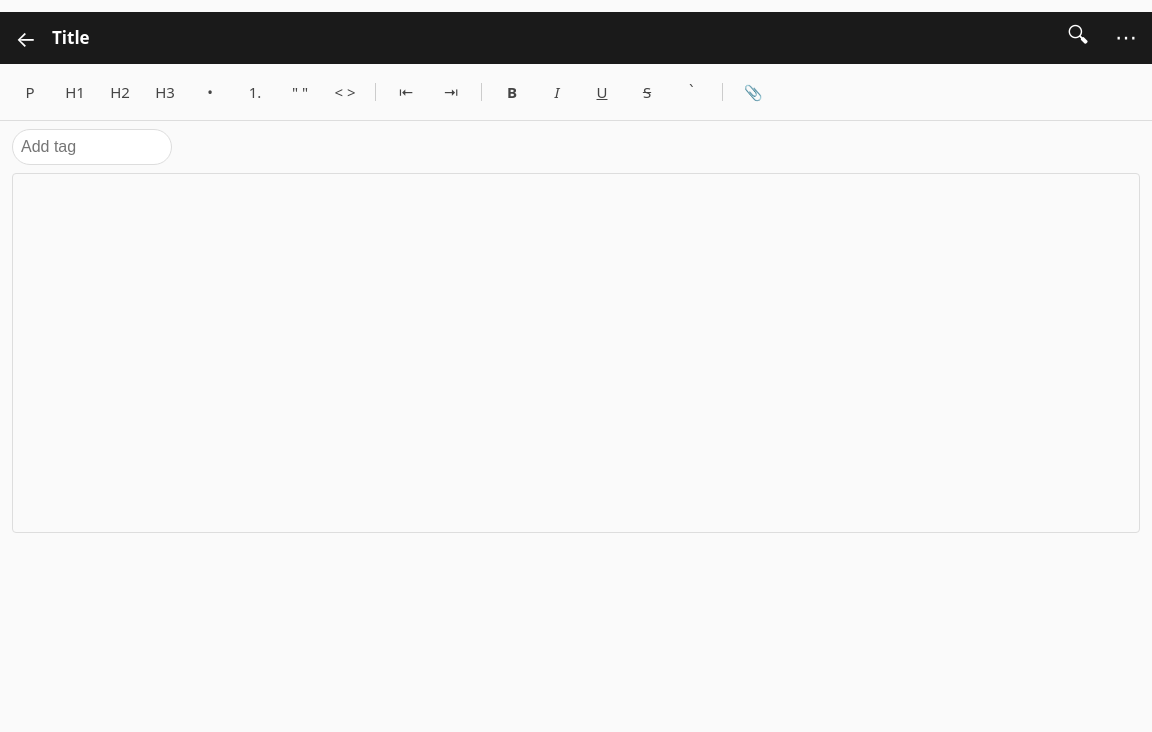
it: NoteEditor on mobile › omits Share from the menu without share_note permission
Click the button named "Menu".
click(1126, 38)  # box [1104, 16, 1148, 60]
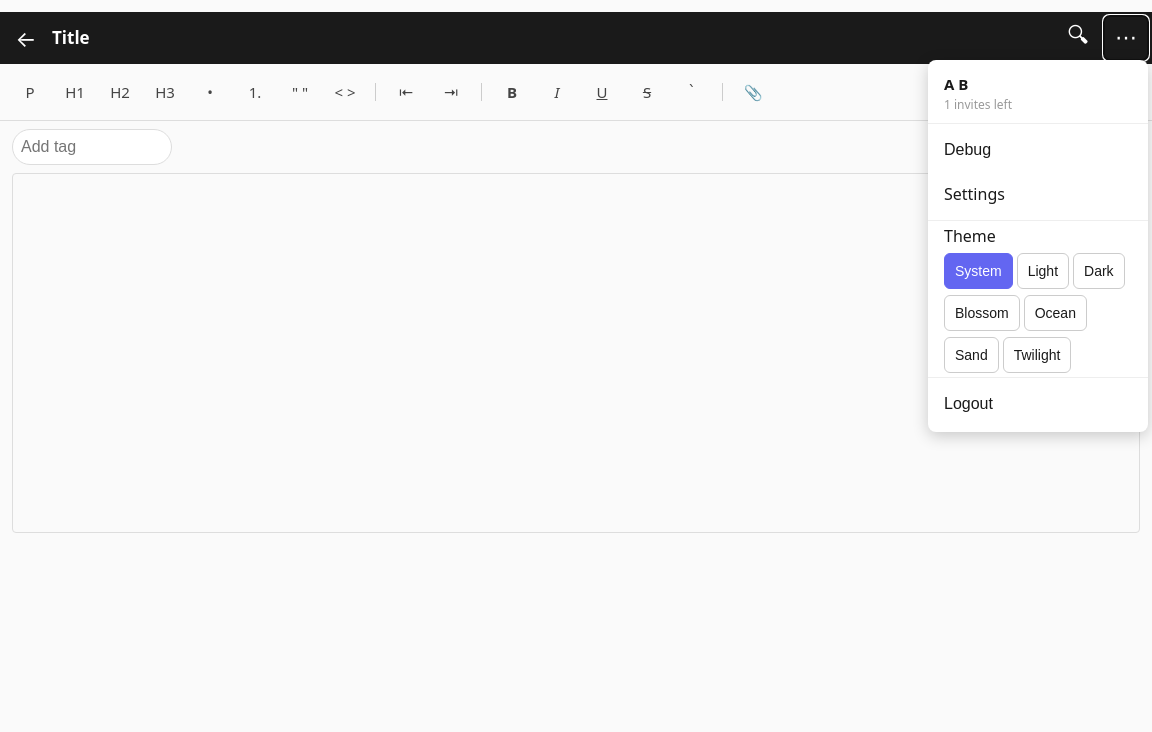
Expected: the menu item "Debug" is shown, [928, 128, 1148, 172]
